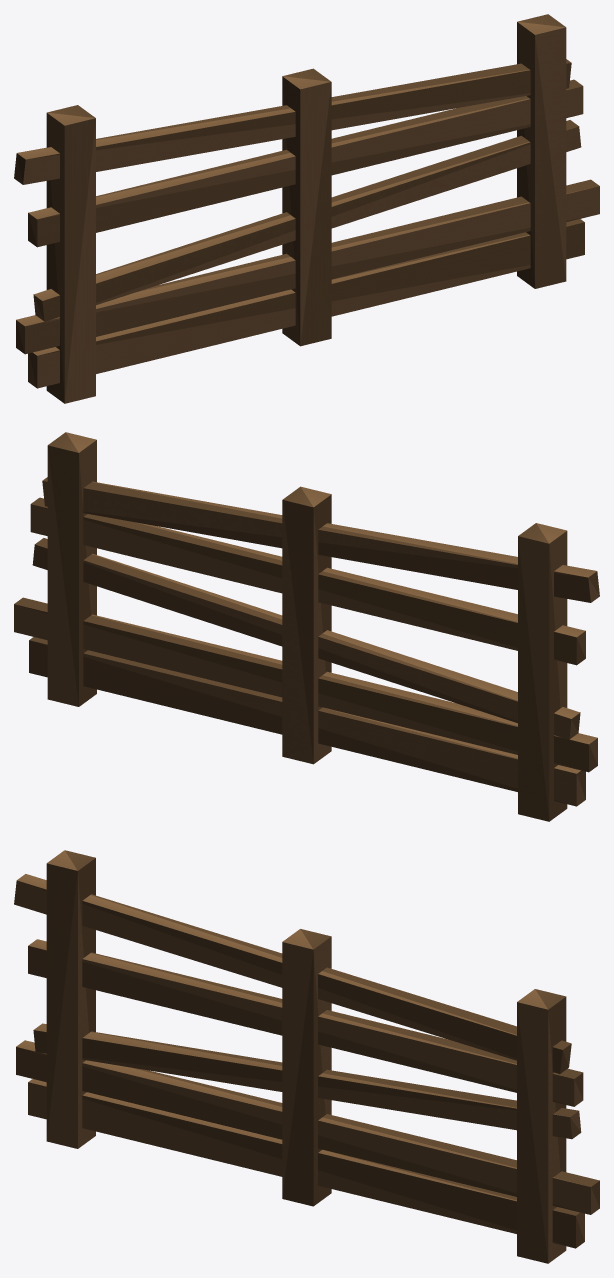
The model's file is Wood_1B.fbx.
3 renders of one model, top to bottom at view 1: azimuth 30°, elevation 25°; view 2: azimuth 150°, elevation 25°; view 3: azimuth 330°, elevation 25°, orthographic.
Parts seen in each view (by area): view 1: polySurface1086; view 2: polySurface1086; view 3: polySurface1086.
Part boxes in pixels (left/top/right/bottom): polySurface1086: left=14, top=14, right=599, bottom=403; polySurface1086: left=14, top=432, right=599, bottom=821; polySurface1086: left=14, top=850, right=599, bottom=1263.
Size of the model in its own units: 737 by 340 by 40.
1 material, 1 textured.
